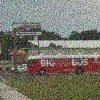buses: (27, 38, 100, 76)
